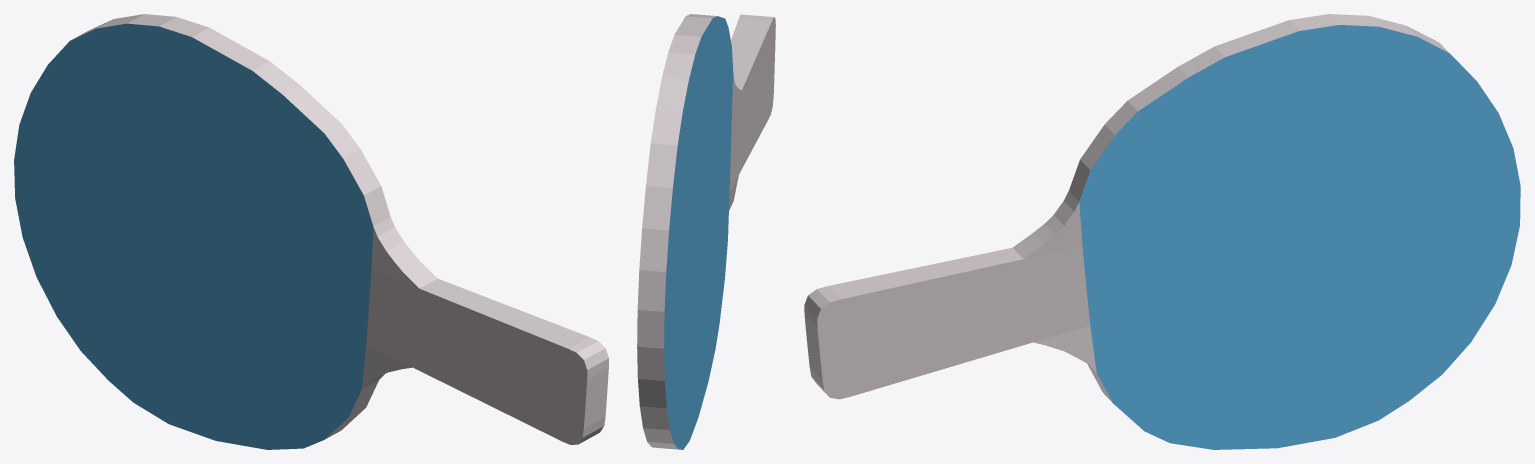
File: raquetteLeft.glb
The picture shows the model from 3 angles, left to right: view 1: azimuth 30°, elevation 25°; view 2: azimuth 150°, elevation 25°; view 3: azimuth 270°, elevation 25°; orthographic projection. The views are drawn at different scales.
Visible parts, largest first — view 1: FaceRaquette, McheRaquette; view 2: FaceRaquette, McheRaquette; view 3: FaceRaquette, McheRaquette.
Boxes of the visible parts, box(x1,y1,x2,y2) form: FaceRaquette: box(14, 23, 373, 449); McheRaquette: box(72, 14, 608, 444); FaceRaquette: box(664, 16, 733, 449); McheRaquette: box(637, 14, 775, 449); FaceRaquette: box(1079, 25, 1520, 449); McheRaquette: box(804, 14, 1470, 402).
Size of the model in its own units: 1.48 by 2.19 by 3.46.
